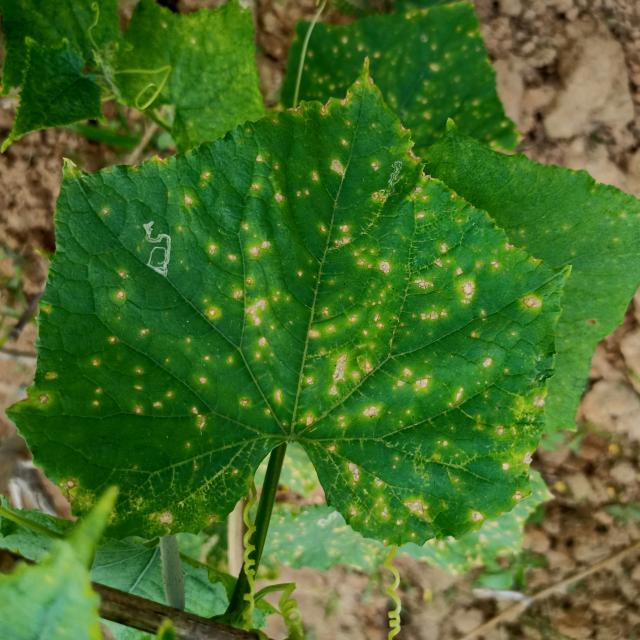disease_cucumber: (71, 114, 534, 532)
